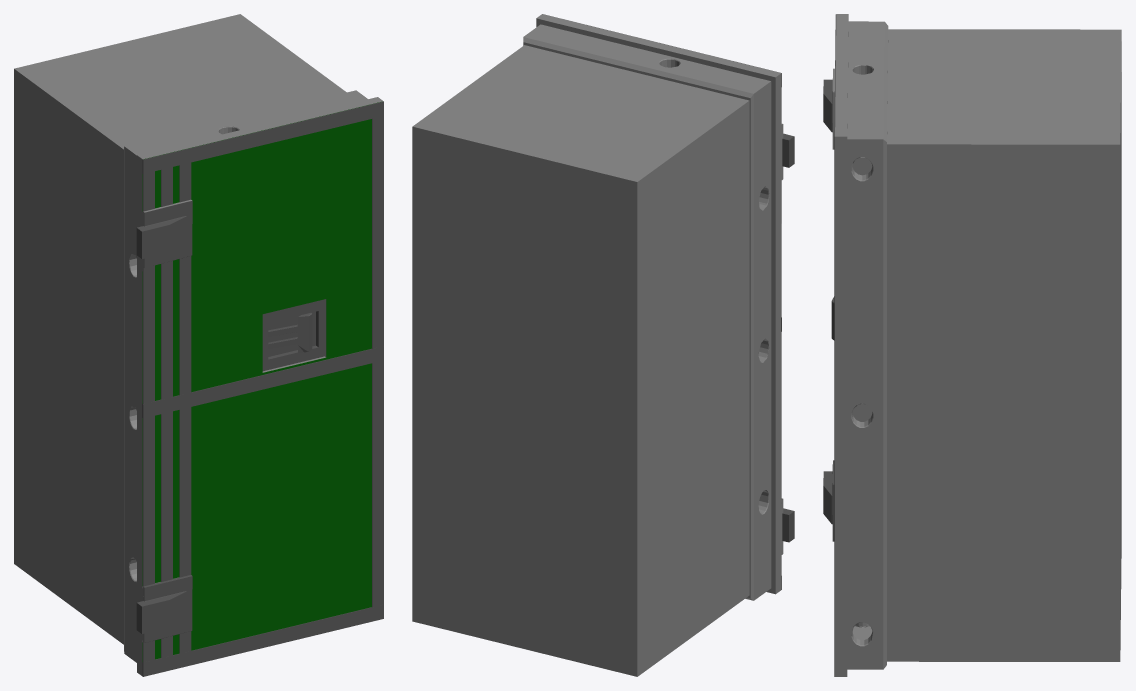
Rendered from Door_1x2_Verte.fbx.
3 renders of one model, left to right at view 1: azimuth 30°, elevation 25°; view 2: azimuth 150°, elevation 25°; view 3: azimuth 270°, elevation 25°, orthographic. The views are drawn at different scales.
Parts seen in each view (by area): view 1: Door 1x2 Verte; view 2: Door 1x2 Verte; view 3: Door 1x2 Verte.
Boxes of the visible parts, box(x1,y1,x2,y2) form: Door 1x2 Verte: box(14, 14, 383, 676); Door 1x2 Verte: box(412, 14, 794, 676); Door 1x2 Verte: box(823, 14, 1121, 676).
Size of the model in its own units: 100 by 200 by 100.
